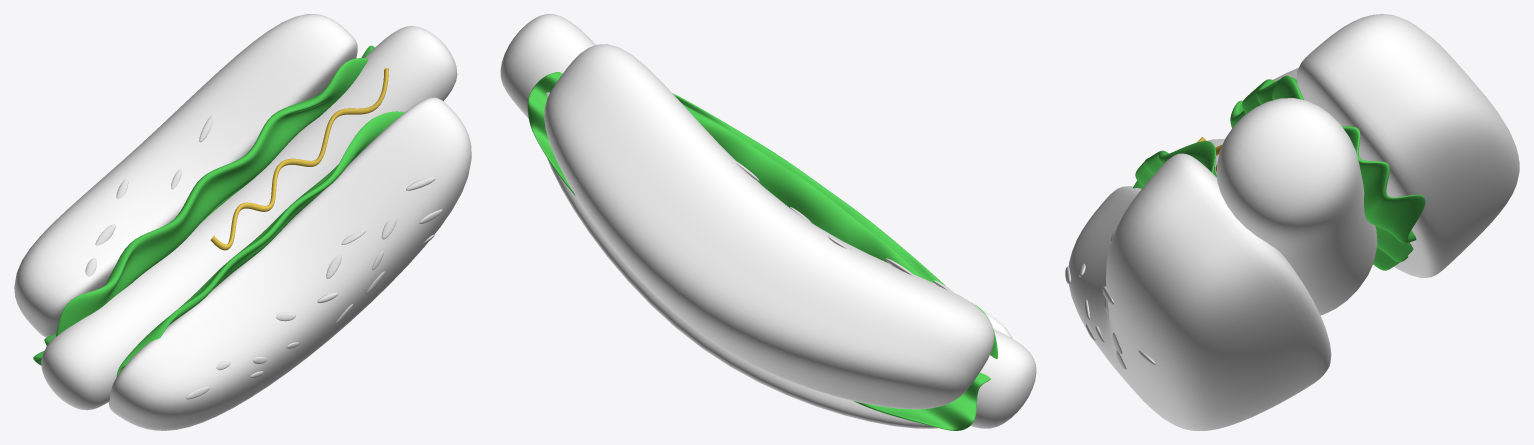
Rendered from hot-dog-3d-animated-icon-1019792085087.glb.
The picture shows the model from 3 angles, left to right: view 1: azimuth 30°, elevation 25°; view 2: azimuth 150°, elevation 25°; view 3: azimuth 270°, elevation 25°; orthographic projection. The views are drawn at different scales.
Visible parts, largest first — view 1: Cube.002, Cube, Cube.001, Plane, Plane.001, NurbsPath.001; view 2: Cube, Plane, Cube.001, Cube.002, Plane.001; view 3: Cube.002, Cube, Cube.001, Plane, Plane.001.
Part boxes in pixels (x1,y1,x2,y2): Cube.002: [108, 97, 471, 430]; Cube: [14, 14, 357, 337]; Cube.001: [41, 26, 457, 410]; Plane: [33, 45, 374, 365]; Plane.001: [116, 111, 404, 377]; NurbsPath.001: [210, 68, 388, 250]; Cube: [544, 44, 994, 409]; Plane: [527, 72, 997, 430]; Cube.001: [500, 14, 1036, 428]; Cube.002: [547, 158, 1012, 428]; Plane.001: [672, 93, 945, 285]; Cube.002: [1068, 153, 1331, 430]; Cube: [1273, 14, 1519, 278]; Cube.001: [1207, 98, 1377, 315]; Plane: [1230, 75, 1425, 270]; Plane.001: [1133, 141, 1217, 188].
Bounding box in the file's own units: 6.89 × 4.88 × 3.95.
